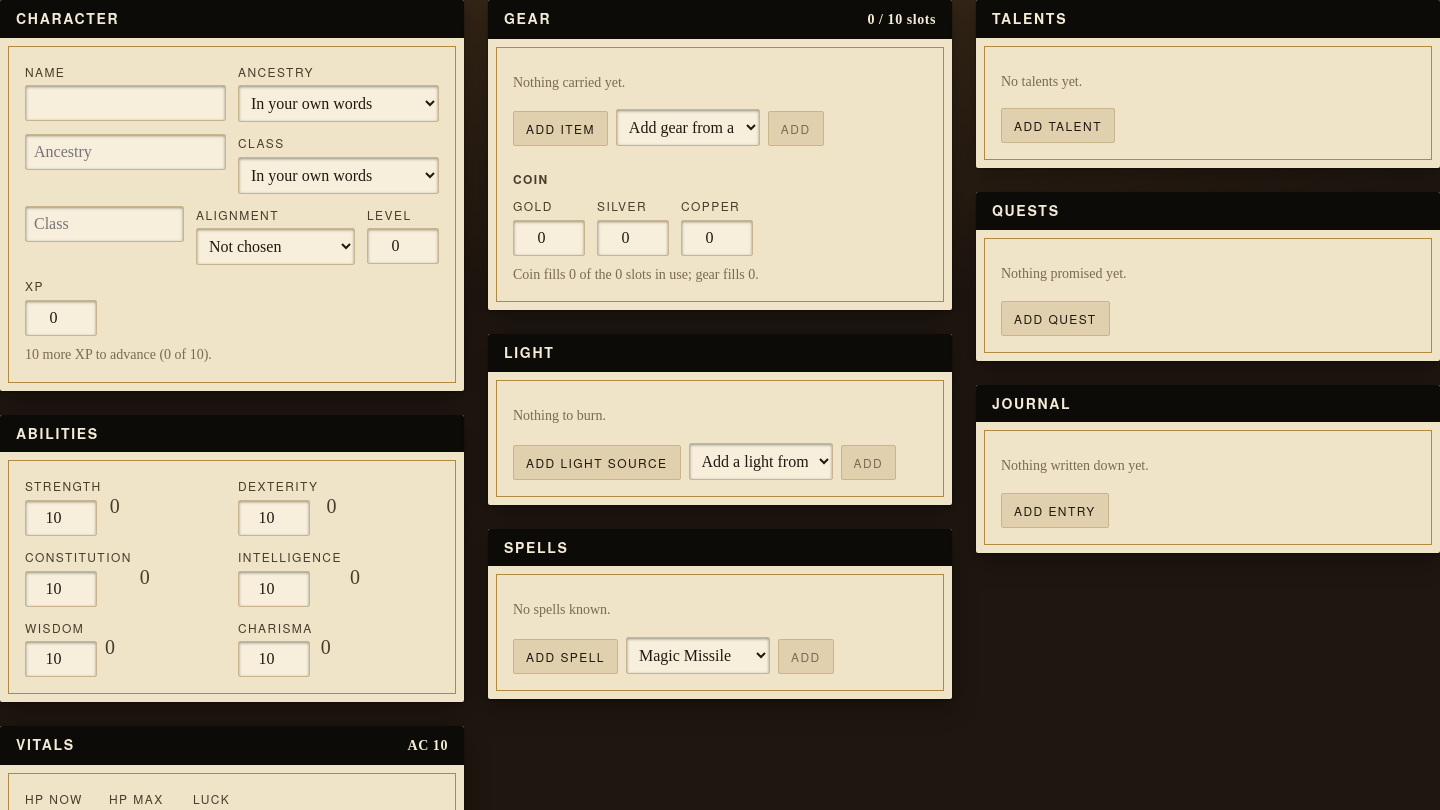
Test: a row added from a pack › shows the tier and DC a pack gives a spell
Select "Magic Missile" in the dropdown below "No spells known." at (698, 656), box top-left (626, 637), bottom-right (770, 674)
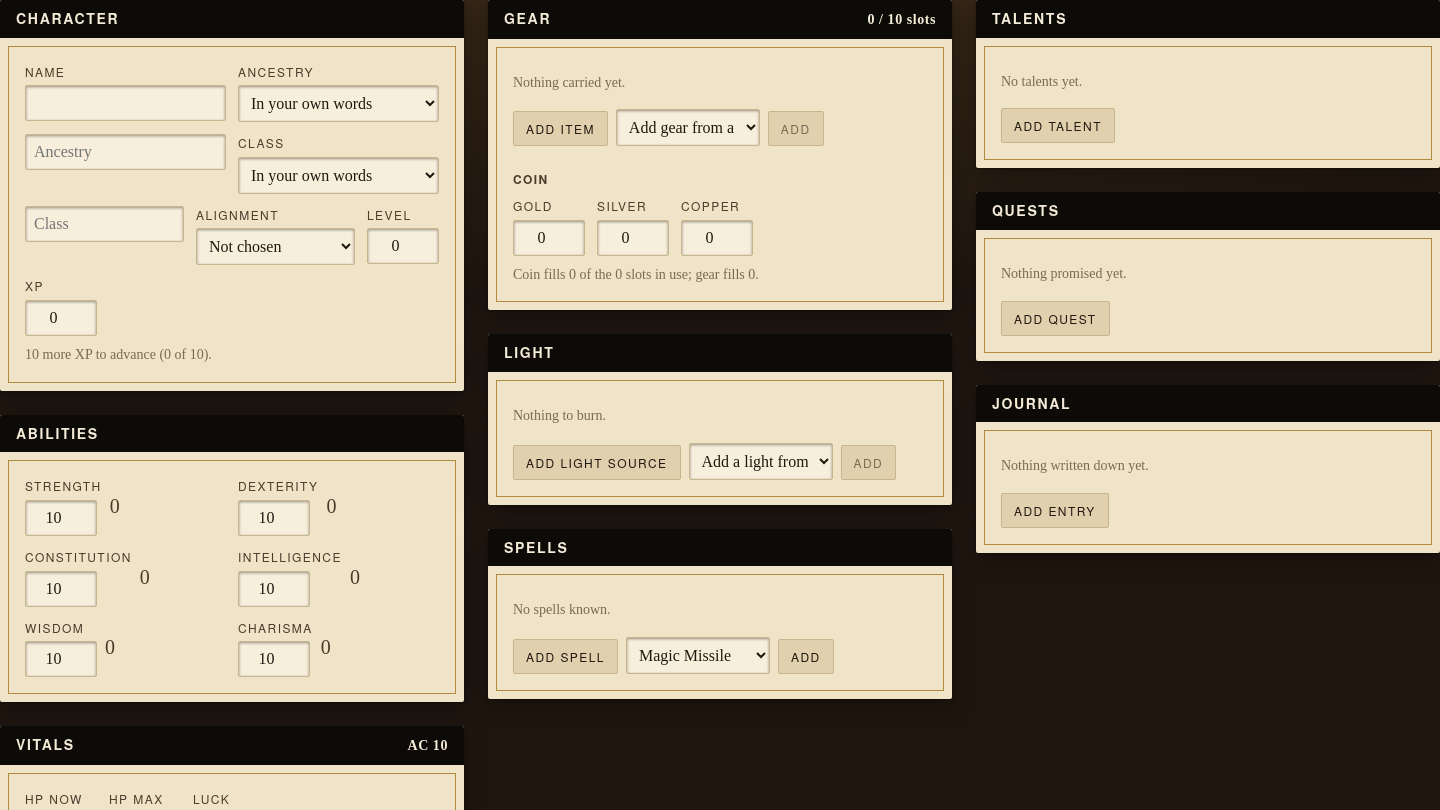
Click the button "Add" below "No spells known." at (806, 656), box top-left (778, 639), bottom-right (834, 674)
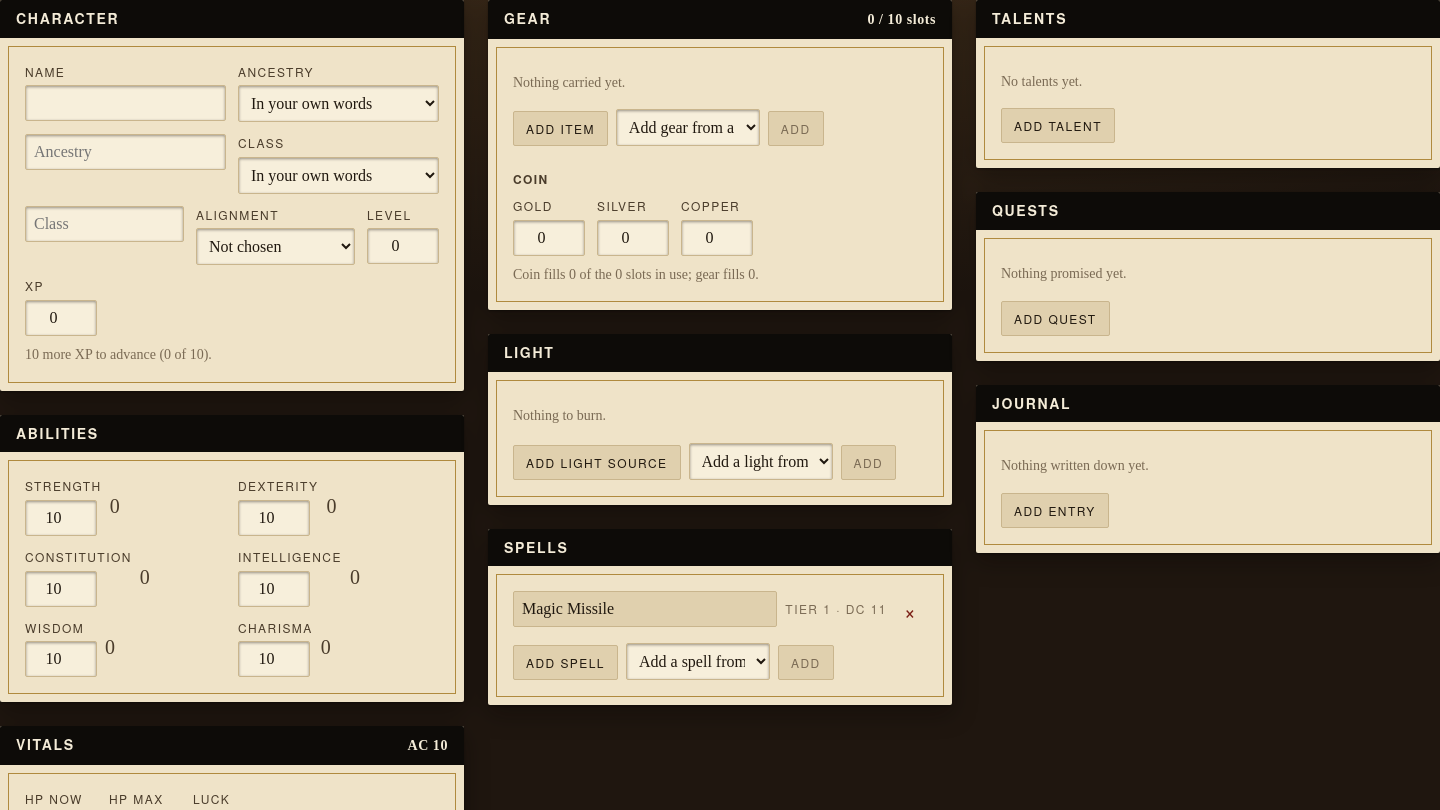
Expected: the element showing "Spells tier 1 · DC 11 × Add spell Add" is shown, top-left (488, 529), bottom-right (952, 705)
